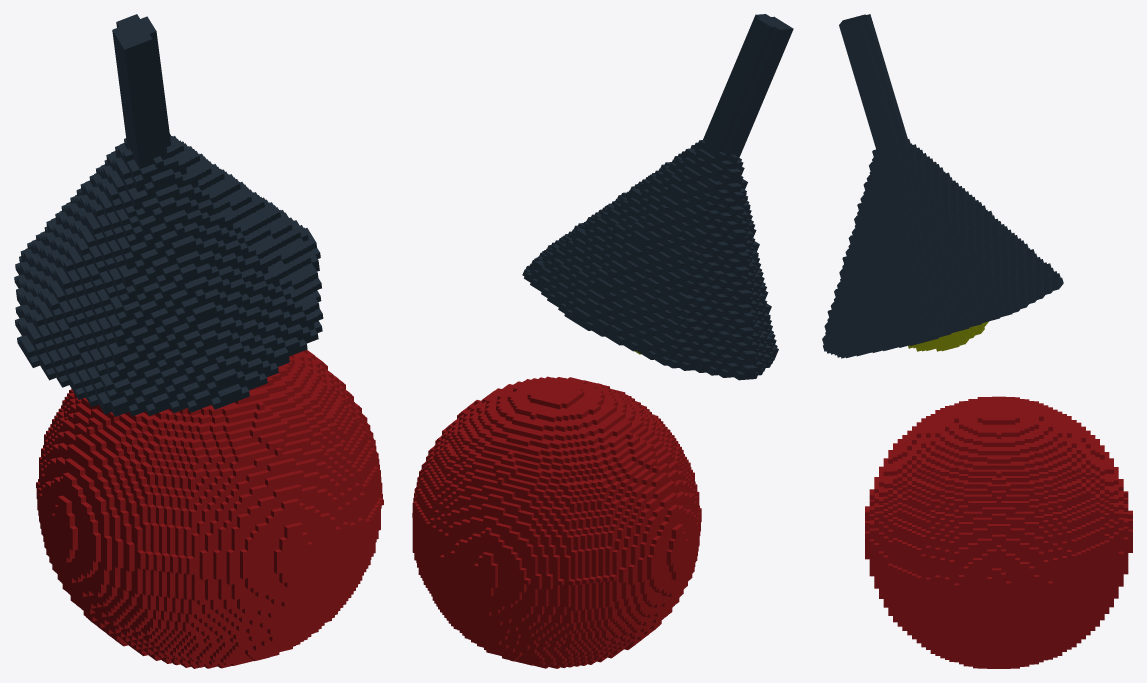
Rendered from asig_render_01.gltf.
The picture shows the model from 3 angles, left to right: view 1: azimuth 30°, elevation 25°; view 2: azimuth 150°, elevation 25°; view 3: azimuth 270°, elevation 25°; orthographic projection. The views are drawn at different scales.
Visible parts, largest first — view 1: rendervox-0-render.001, rendervox-0-render; view 2: rendervox-0-render.001, rendervox-0-render; view 3: rendervox-0-render.001, rendervox-0-render.
Boxes of the visible parts, <box> form: rendervox-0-render.001: <box>36,350,383,668</box>; rendervox-0-render: <box>14,14,323,416</box>; rendervox-0-render.001: <box>412,376,701,668</box>; rendervox-0-render: <box>522,14,793,380</box>; rendervox-0-render.001: <box>865,396,1132,668</box>; rendervox-0-render: <box>822,14,1063,358</box>.
Size of the model in its own units: 5.38 by 10.52 by 5.14.
